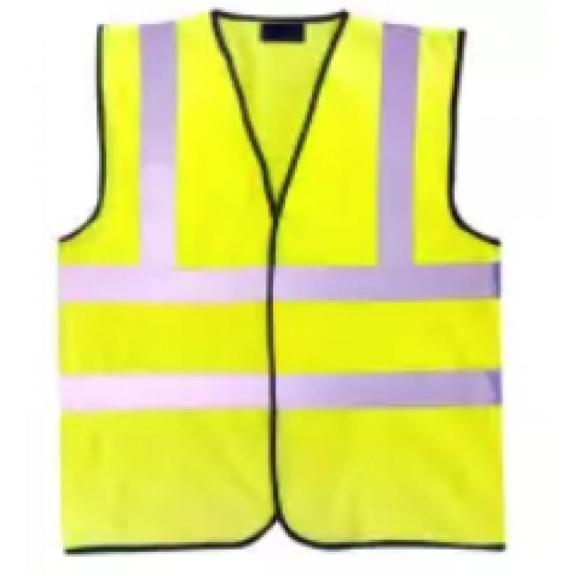safety_vest: (56, 10, 509, 556)
